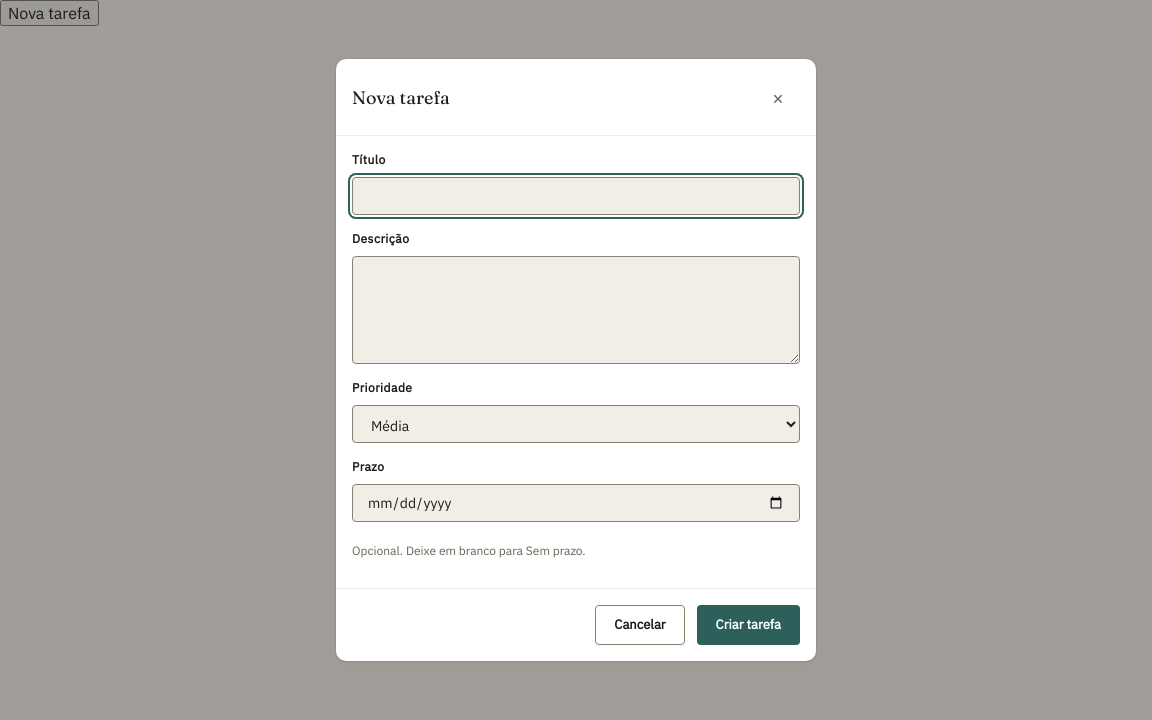
Test: TaskFormDialog › shows a connection-failure message and preserves the typed values
The image size is (1152, 720).
Step 1. Type "Comprar leite" into the field labelled "Título" → (576, 196), box [352,177,800,215]
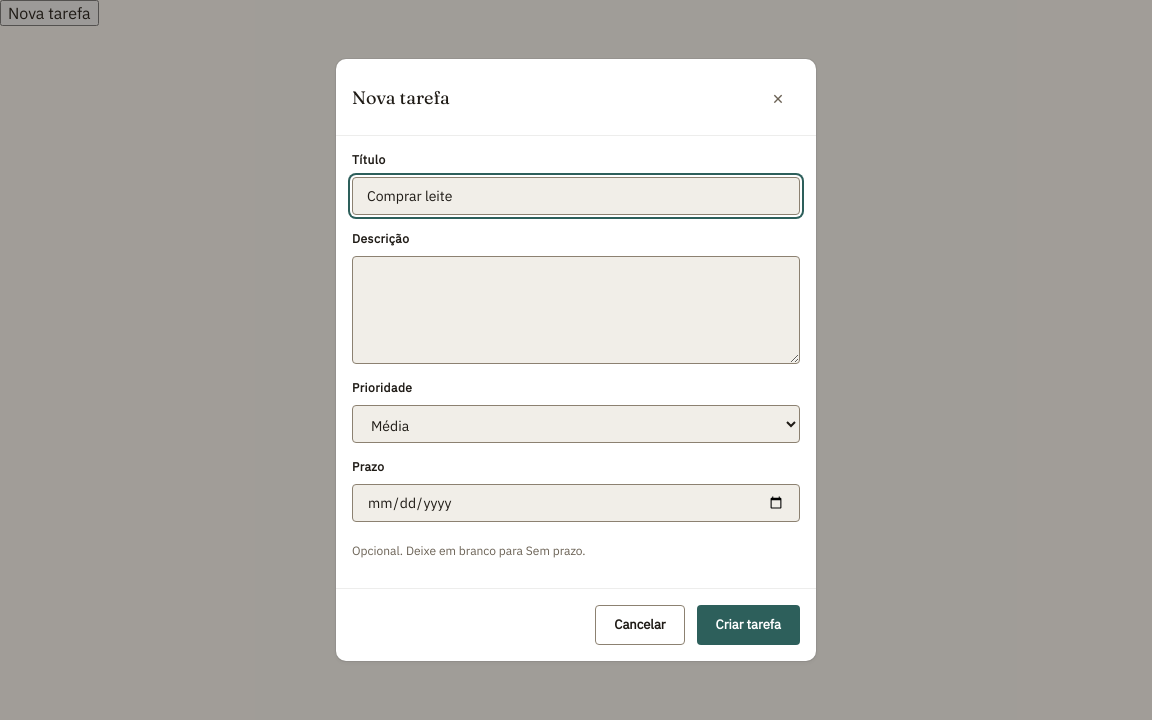
Step 2. Click the button "Criar tarefa" → (748, 625), box [697,605,800,645]
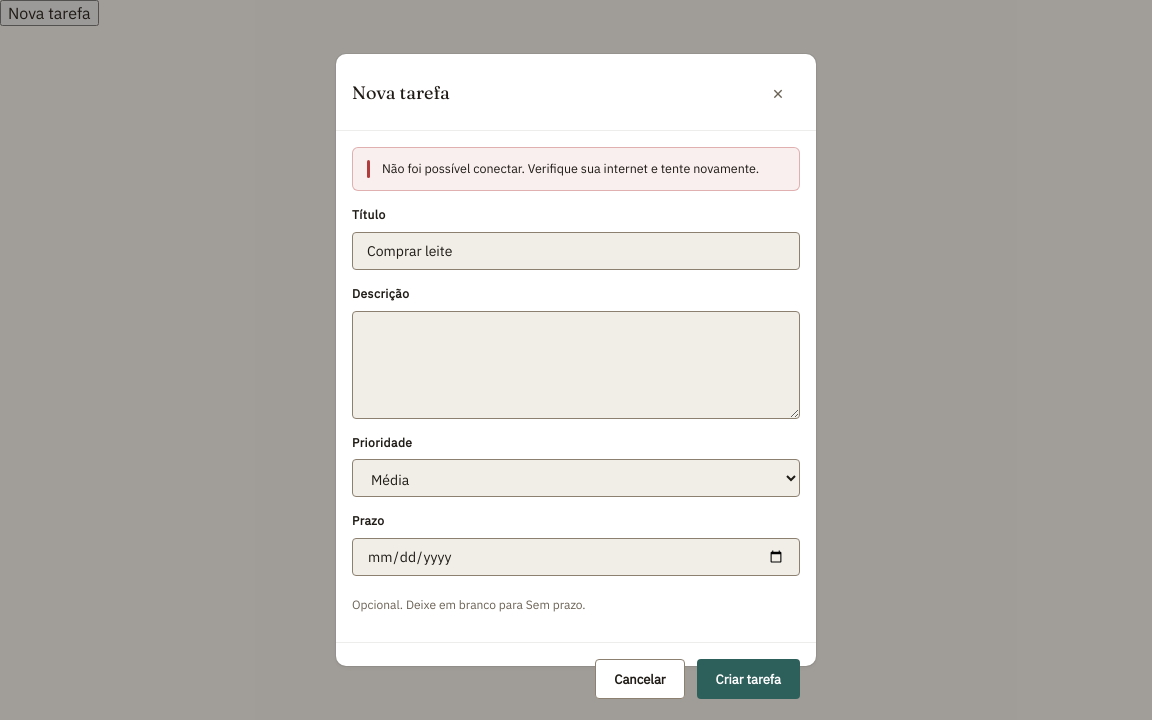
expect the text "Não foi possível conectar" is shown: met, box [382,160,759,176]
